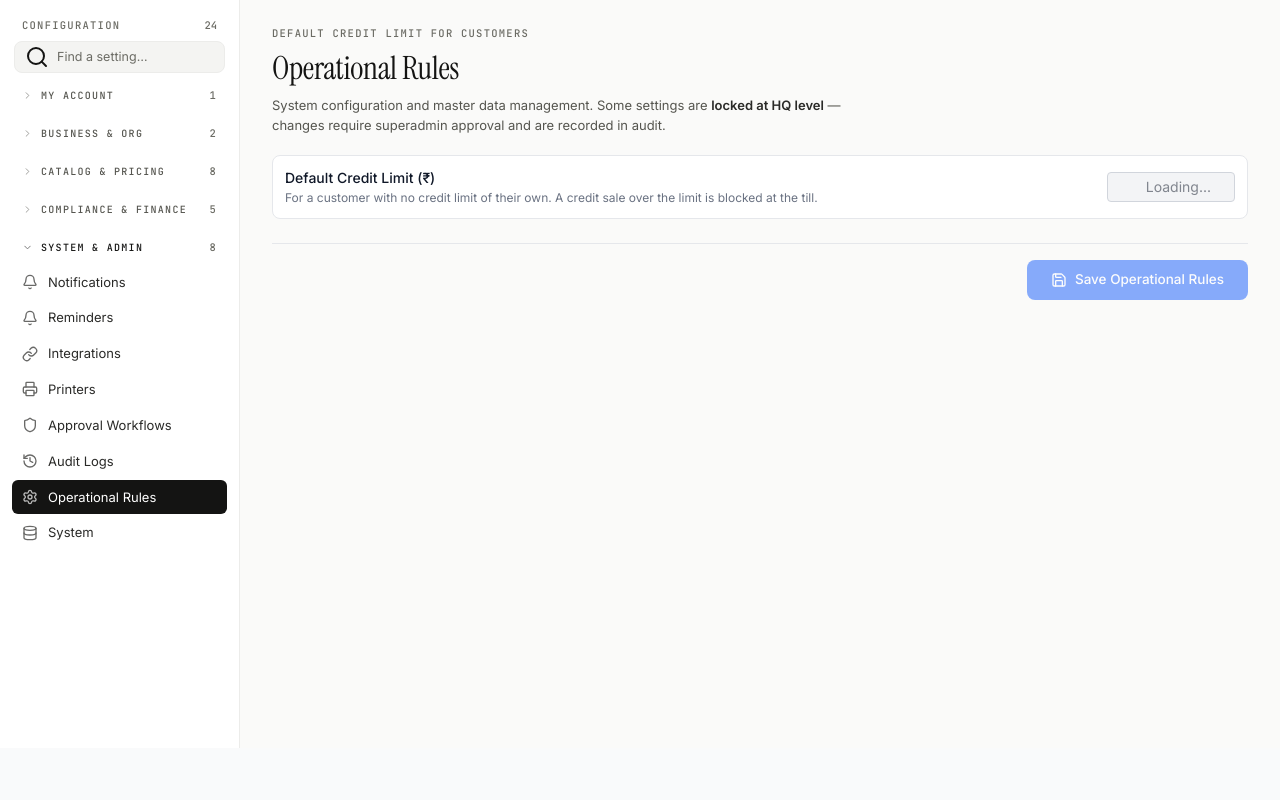
Test case: /settings/rules: the default credit limit, nothing else › Save stays off while the saved limit is loading, and the box shows no placeholder amount
Check: the number field is disabled, box [1107,172,1235,202]
Check: the number field is not empty, box [1107,172,1235,202]
Click the button "Save Operational Rules" at (1137, 280), box [1027,260,1248,300]
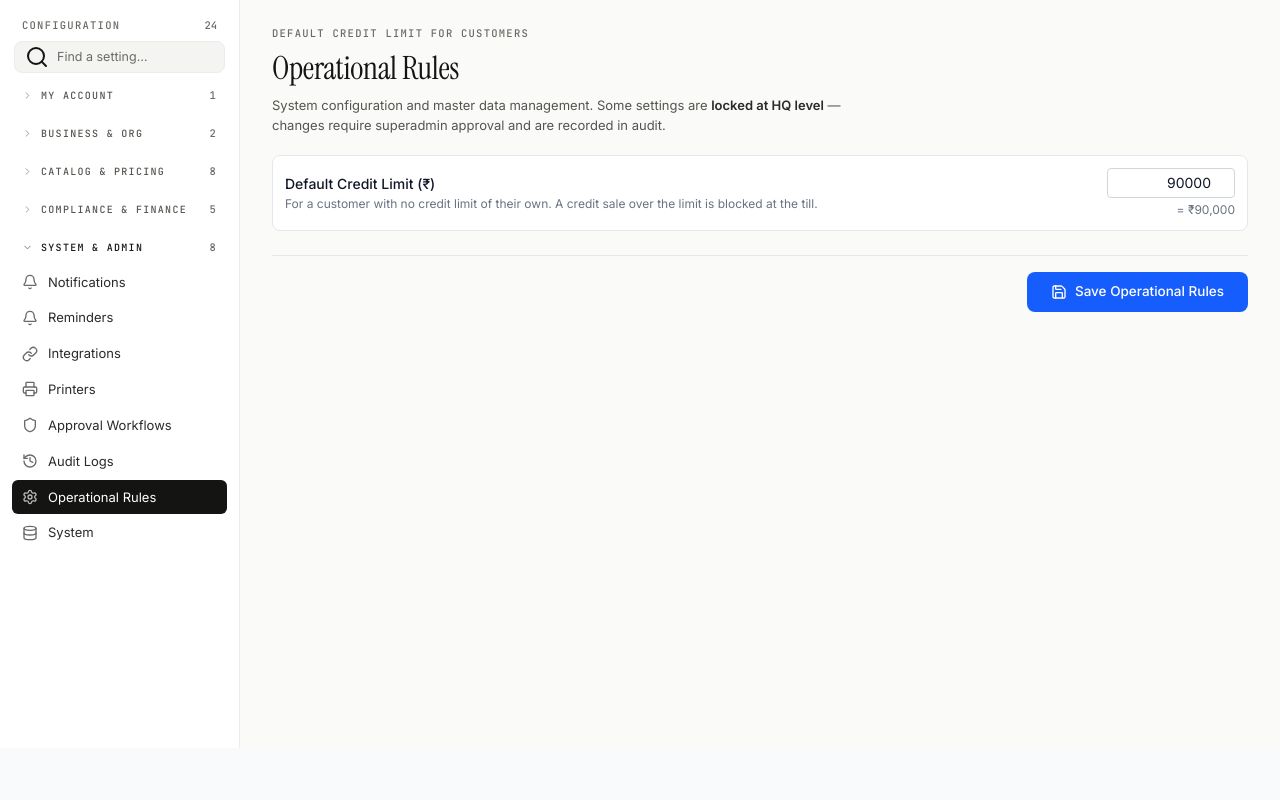
Check: the number field showing "90000" is shown, box [1107,168,1235,198]
Check: the button "Save Operational Rules" is enabled, box [1027,272,1248,312]
